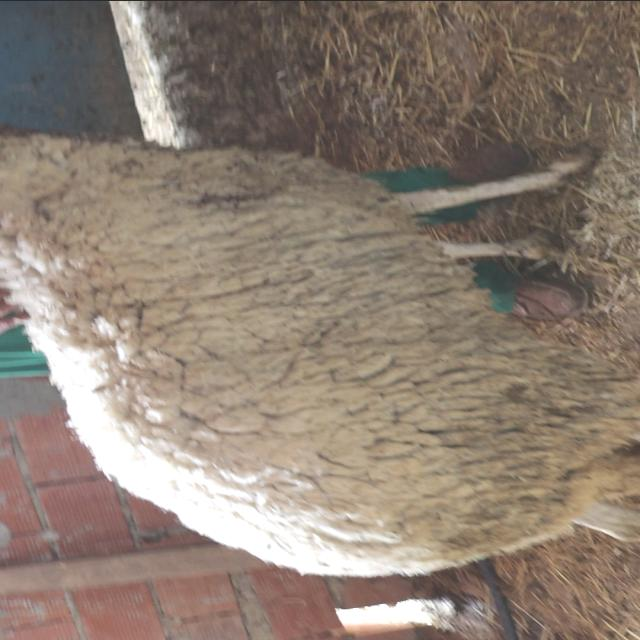Score_4: (0, 133, 639, 576)
